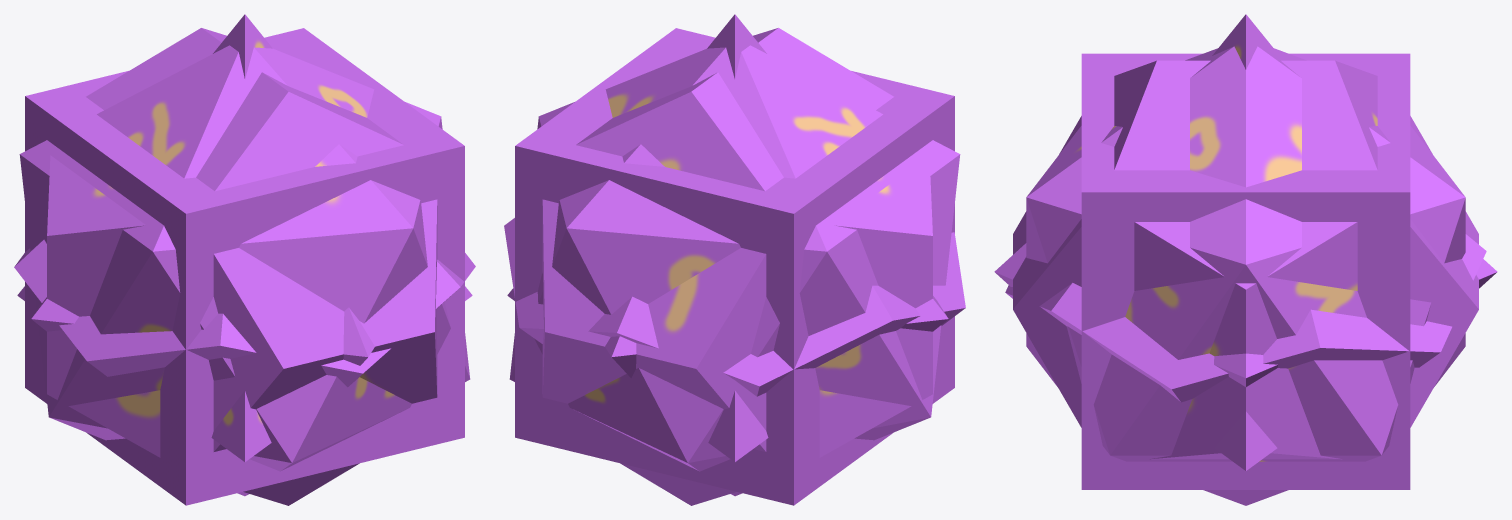
Rendered from dice.gltf.
3 views of the same model, side by side, from view 1: azimuth 30°, elevation 25°; view 2: azimuth 150°, elevation 25°; view 3: azimuth 270°, elevation 25° (orthographic).
Visible parts, largest first — view 1: d20, d6, d12, d10, d4, d8; view 2: d20, d6, d12, d10, d4, d8; view 3: d20, d12, d6, d10, d4, d8.
Part boxes in pixels (left/top/right/bottom): d20: left=19, top=45, right=470, bottom=496; d6: left=25, top=28, right=464, bottom=505; d12: left=47, top=28, right=437, bottom=505; d10: left=14, top=239, right=475, bottom=387; d4: left=17, top=14, right=472, bottom=461; d8: left=31, top=297, right=374, bottom=365; d20: left=509, top=45, right=960, bottom=496; d6: left=515, top=28, right=954, bottom=505; d12: left=542, top=28, right=932, bottom=505; d10: left=504, top=218, right=965, bottom=396; d4: left=507, top=14, right=768, bottom=461; d8: left=605, top=296, right=948, bottom=377; d20: left=1026, top=46, right=1465, bottom=505; d12: left=1013, top=60, right=1478, bottom=459; d6: left=1081, top=53, right=1410, bottom=489; d10: left=1005, top=234, right=1486, bottom=402; d4: left=1212, top=14, right=1279, bottom=470; d8: left=994, top=243, right=1497, bottom=386.
Bounding box in the file's own units: 2.38 × 2.48 × 2.3.
Materials: 7 (7 with a texture image).
